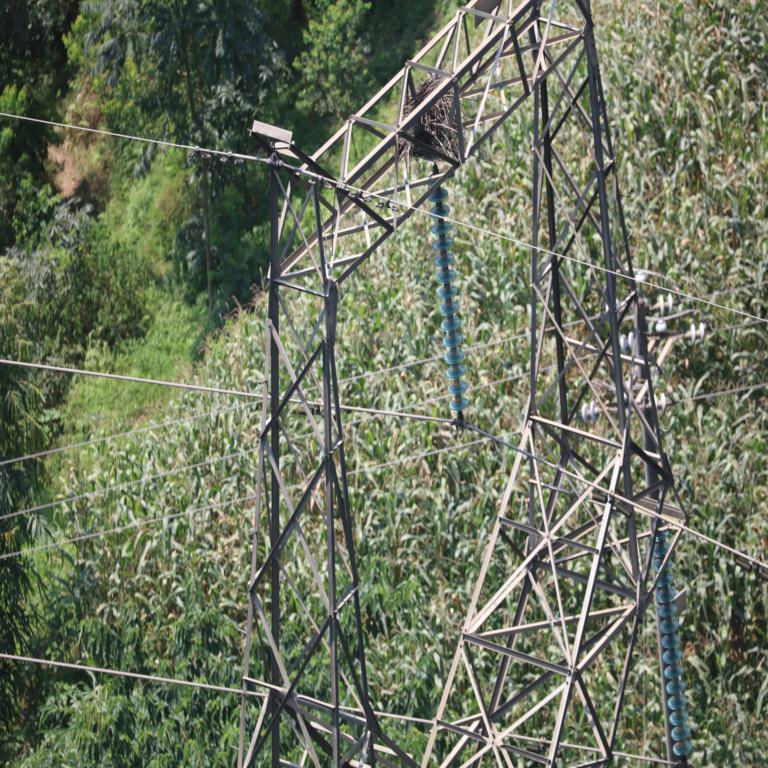nest: (403, 83, 461, 155)
